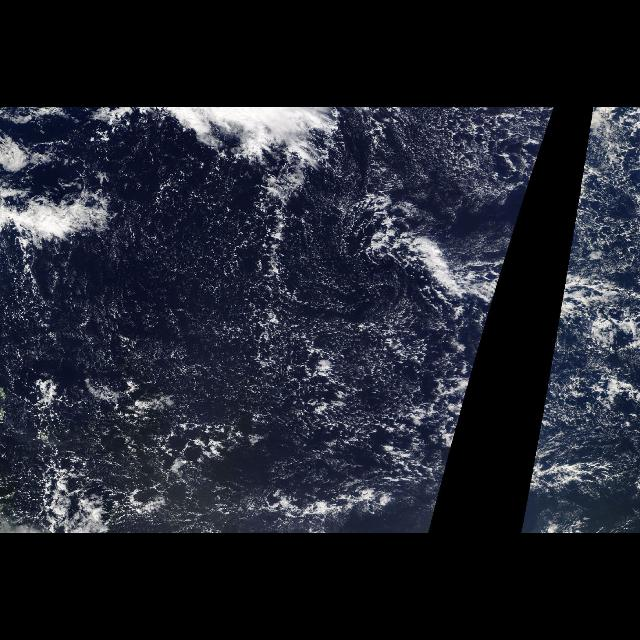Gravel: (14, 228, 422, 510), (370, 108, 550, 215)
Sugar: (60, 250, 258, 378)
